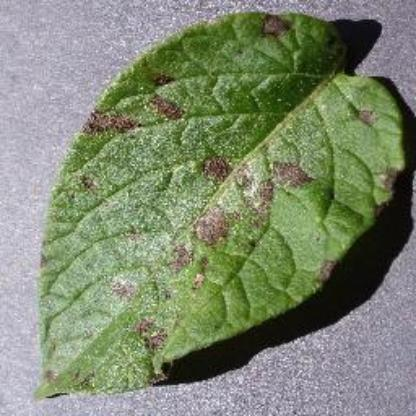Early-Blight: (32, 0, 416, 404)
